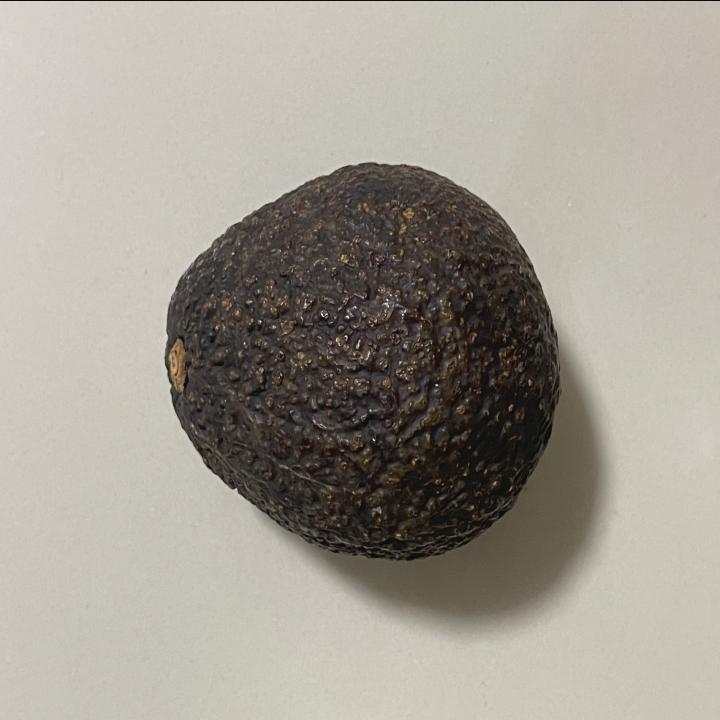Level2: (160, 154, 566, 572)
